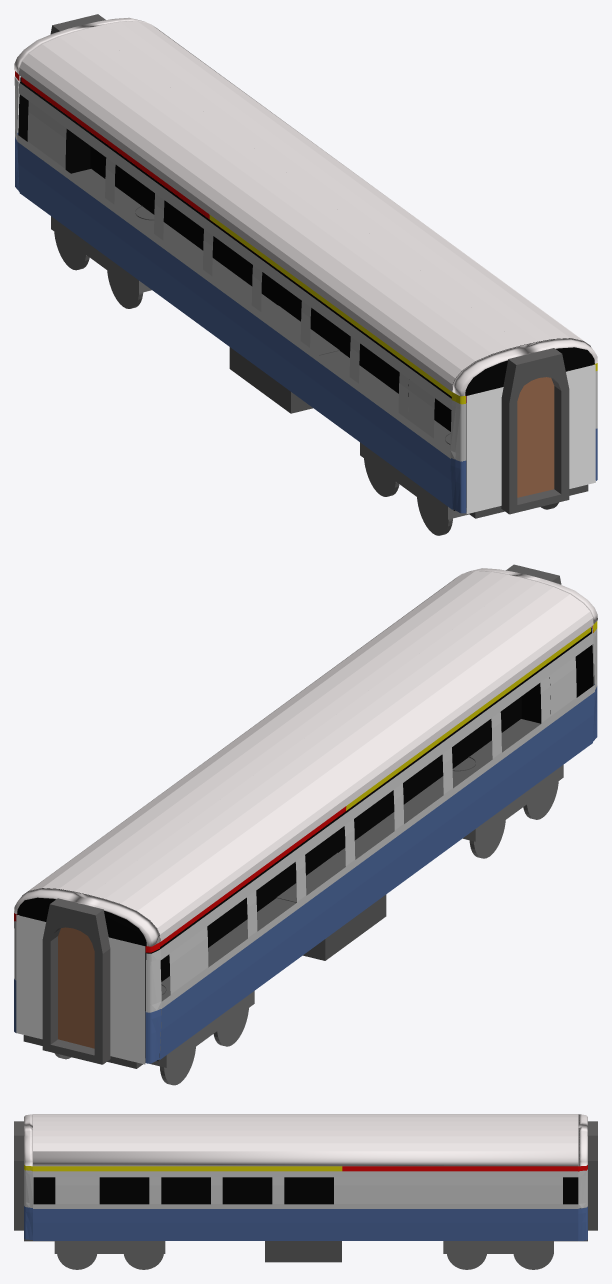
Rendered from br-mk2-rfb-bg.dae.
3 views of the same model, one above another, from view 1: azimuth 30°, elevation 25°; view 2: azimuth 150°, elevation 25°; view 3: azimuth 270°, elevation 25° (orthographic). The views are drawn at different scales.
Parts seen in each view (by area): view 1: Suzanne_001, Plane_031, Plane_100, Plane_009, Tube_002, Plane_088, Plane_002, Plane_012, Plane_029, Plane_030, Suzanne, Cube (+12 smaller); view 2: Suzanne_001, Plane_031, Plane_001, Plane_009, Tube_003, Plane_088, Plane_002, Plane_013, Plane_029, Plane_030, Suzanne_006, Cube (+12 smaller); view 3: Suzanne_001, Plane_007, Plane_009, Plane_020, Plane_004, Plane_006, Plane_005, Plane_022, Cube, Cube_042, Cube_002, Tube_003 (+14 smaller).
Part boxes in pixels (x1,y1,x2,y2): Suzanne_001: (19,21,590,391); Plane_031: (18,149,452,509); Plane_100: (466,364,595,513); Plane_009: (90,132,451,431); Tube_002: (501,348,569,514); Plane_088: (19,82,451,409); Plane_002: (71,169,450,450); Plane_012: (517,377,554,497); Plane_029: (17,135,450,458); Plane_030: (17,142,450,465); Suzanne: (452,338,597,396); Cube: (229,305,339,413); Suzanne_001: (22,571,593,941); Plane_031: (159,699,594,1059); Plane_001: (16,915,145,1064); Plane_009: (158,683,521,981); Tube_003: (42,898,110,1064); Plane_088: (160,633,593,959); Plane_002: (159,719,540,1057); Plane_013: (58,927,94,1048); Plane_029: (161,685,594,1008); Plane_030: (161,692,594,1015); Suzanne_006: (14,888,160,946); Cube: (276,852,386,960); Suzanne_001: (33,1114,578,1166); Plane_007: (33,1213,578,1240); Plane_009: (33,1177,580,1208); Plane_020: (334,1177,562,1204); Plane_004: (33,1171,578,1177); Plane_006: (33,1166,578,1171); Plane_005: (33,1209,578,1213); Plane_022: (33,1204,578,1208); Cube: (265,1241,341,1262); Cube_042: (54,1241,165,1253); Cube_002: (443,1241,553,1253); Tube_003: (587,1121,597,1230).
Size of the model in its own units: 2.06 by 11.39 by 2.72.
